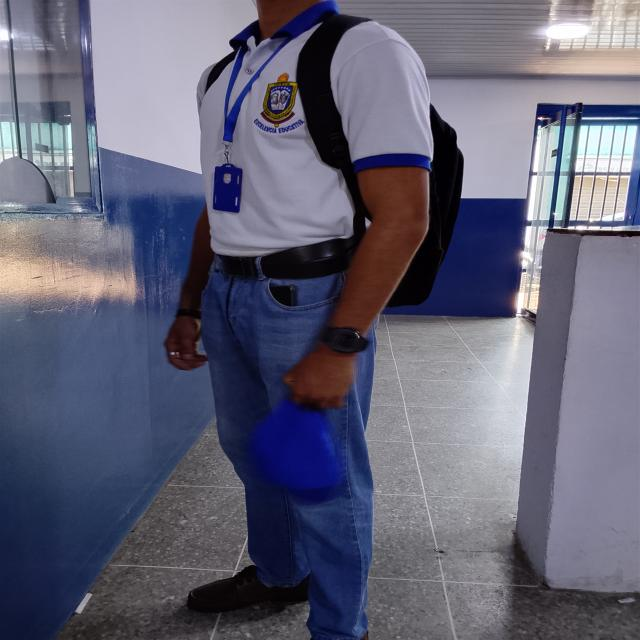carnet: (212, 166, 243, 213)
uniforme_superior: (195, 0, 434, 257)
